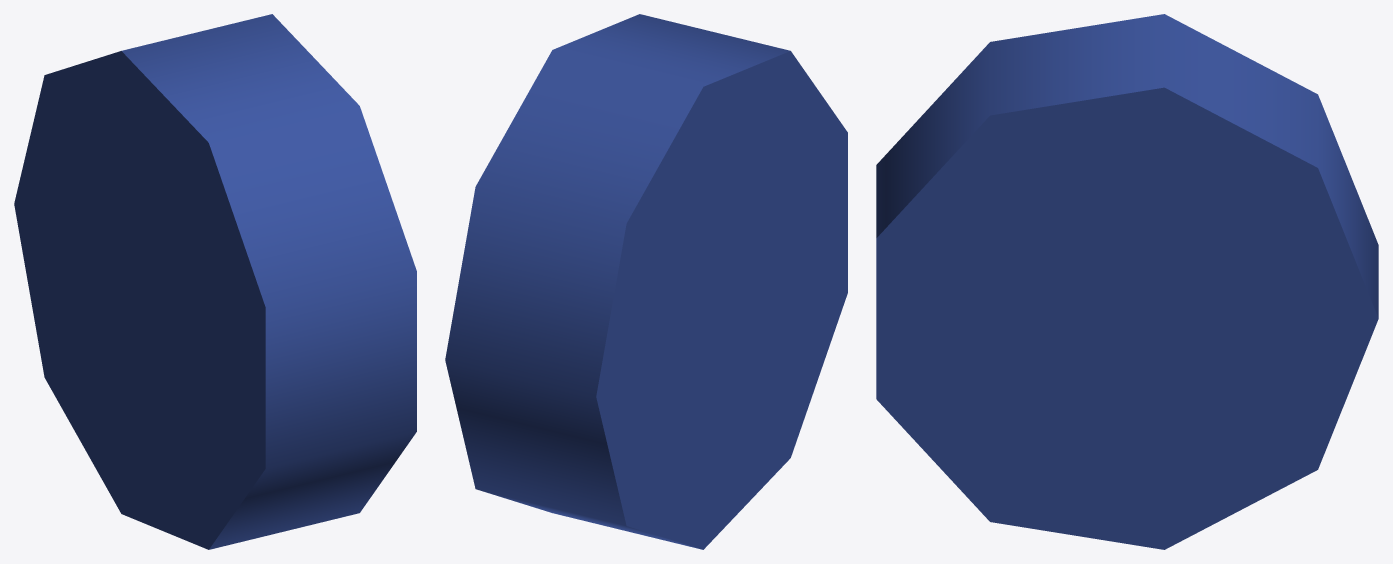
File: Pipe_1_D_4.fbx
3 views of the same model, side by side, from view 1: azimuth 30°, elevation 25°; view 2: azimuth 150°, elevation 25°; view 3: azimuth 270°, elevation 25° (orthographic).
Parts seen in each view (by area): view 1: Pipe_1_D_4; view 2: Pipe_1_D_4; view 3: Pipe_1_D_4.
Part boxes in pixels (left/top/right/bottom): Pipe_1_D_4: left=14, top=14, right=416, bottom=549; Pipe_1_D_4: left=445, top=14, right=847, bottom=549; Pipe_1_D_4: left=876, top=14, right=1378, bottom=549.
Bounding box in the file's own units: 10.28 × 30.12 × 29.66.
